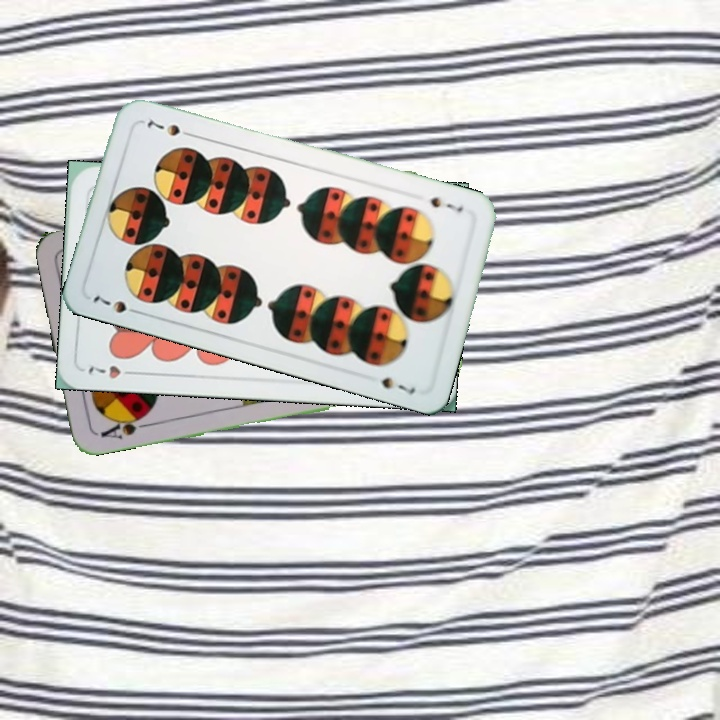H7: (84, 361, 141, 381)
S7: (88, 291, 144, 317), (426, 193, 466, 215)
SA: (96, 410, 153, 442)
